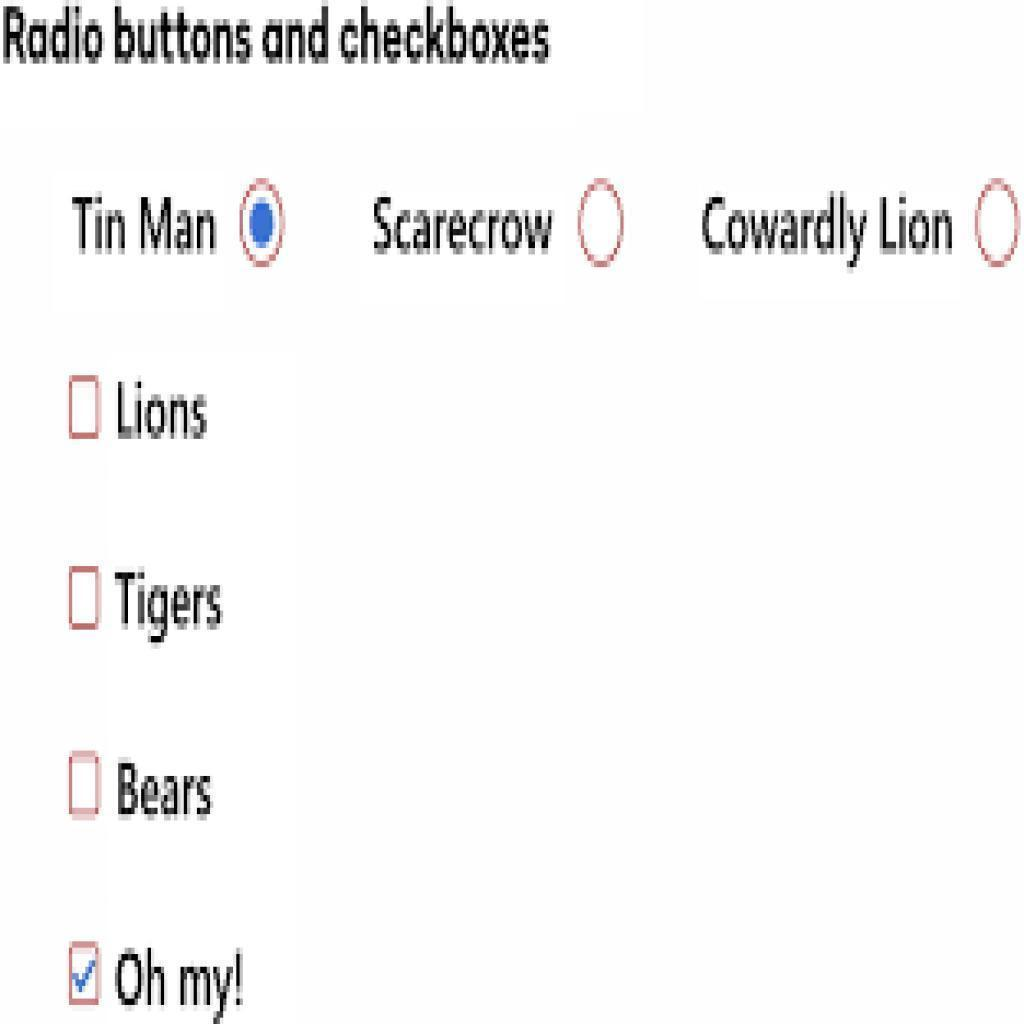checkbox: (69, 753, 104, 814), (70, 567, 100, 628), (69, 378, 99, 437), (69, 942, 98, 1002)
label: (696, 193, 954, 257), (364, 192, 554, 255), (72, 189, 218, 259), (106, 948, 251, 1017), (114, 565, 225, 633), (109, 375, 221, 439), (111, 760, 215, 826)
radio: (970, 172, 1022, 269), (240, 170, 285, 277), (579, 179, 627, 275)
